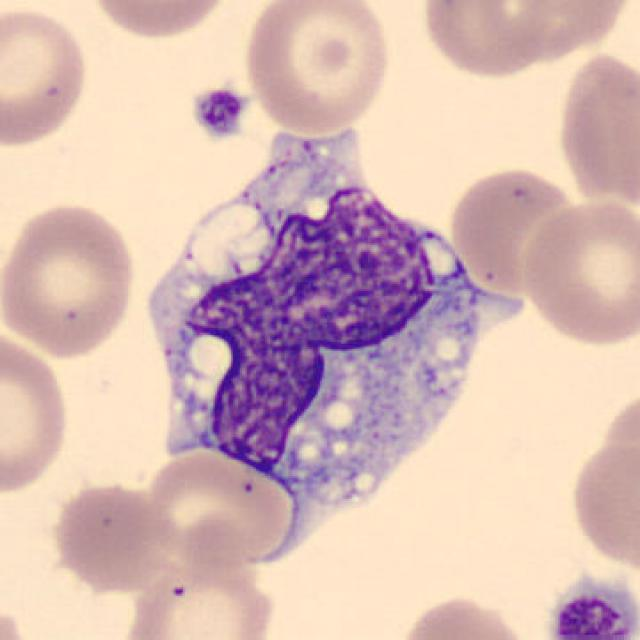Monocyte: (123, 125, 510, 531)
Platelets: (542, 578, 638, 640), (188, 83, 250, 141)
RBC: (0, 197, 140, 361), (238, 0, 395, 136), (140, 446, 294, 577), (515, 195, 640, 349), (444, 162, 585, 296), (553, 46, 640, 210), (0, 1, 92, 151), (46, 478, 167, 592), (121, 560, 279, 640), (0, 326, 73, 499), (418, 0, 562, 81), (462, 0, 633, 65), (565, 428, 640, 576), (393, 590, 537, 640), (83, 0, 236, 42), (0, 601, 28, 640)
